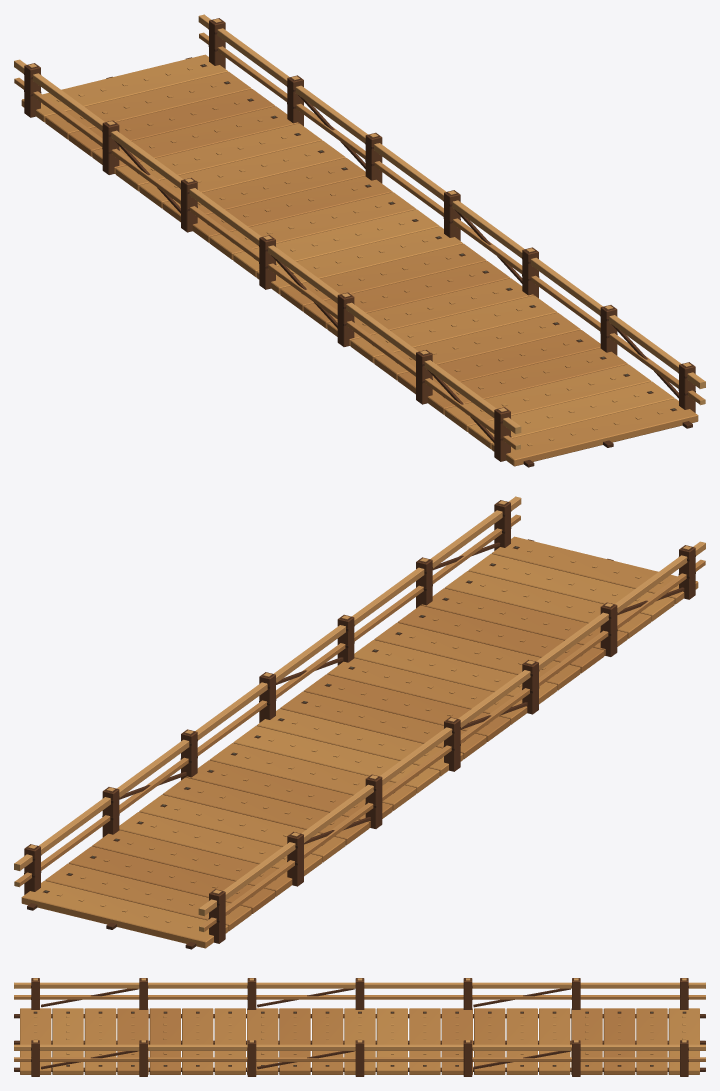
Rendered from BrickBridge.glb.
3 renders of one model, top to bottom at view 1: azimuth 30°, elevation 25°; view 2: azimuth 150°, elevation 25°; view 3: azimuth 270°, elevation 25°, orthographic. The views are drawn at different scales.
Visible parts, largest first — view 1: BrickBridge; view 2: BrickBridge; view 3: BrickBridge.
Boxes of the visible parts, x1,y1,x2,y2 form: BrickBridge: (14, 14, 705, 467); BrickBridge: (14, 496, 705, 949); BrickBridge: (14, 978, 705, 1076).
Bounding box in the file's own units: 14.4 × 3.45 × 64.
1 material, 1 textured.
